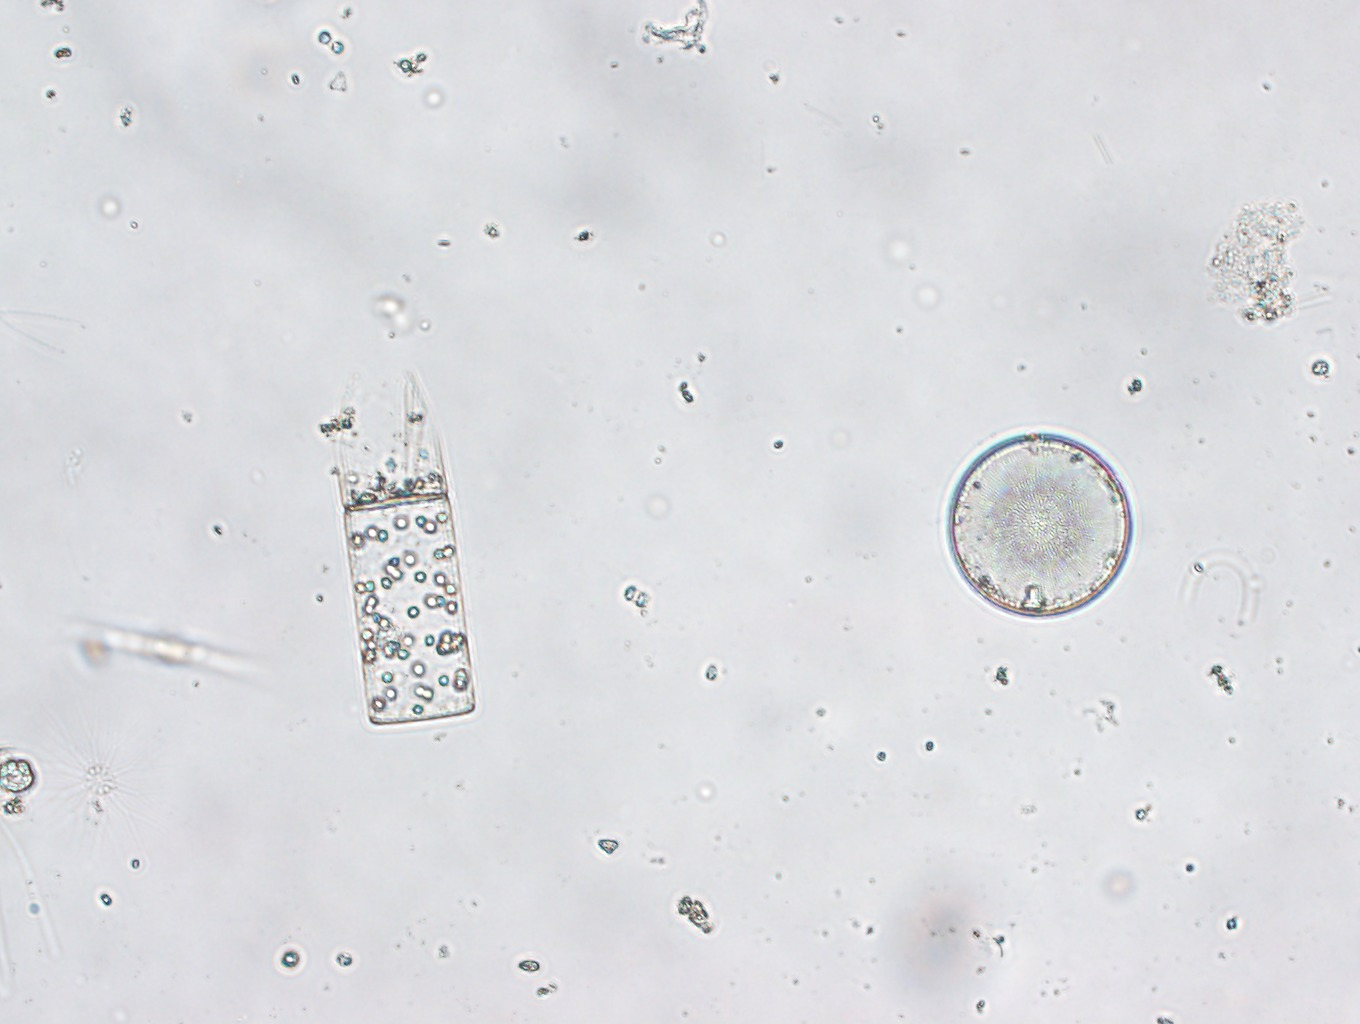coscinodiscus: (946, 432, 1134, 618)
guinardia flaccida: (339, 436, 475, 726)
